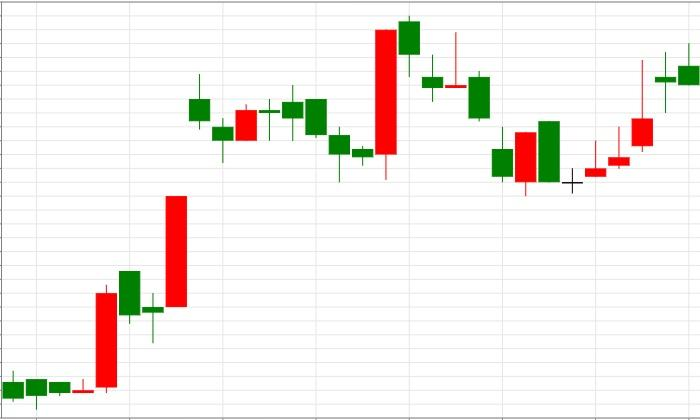bullish_engulfing_rise: (398, 15, 536, 196)
